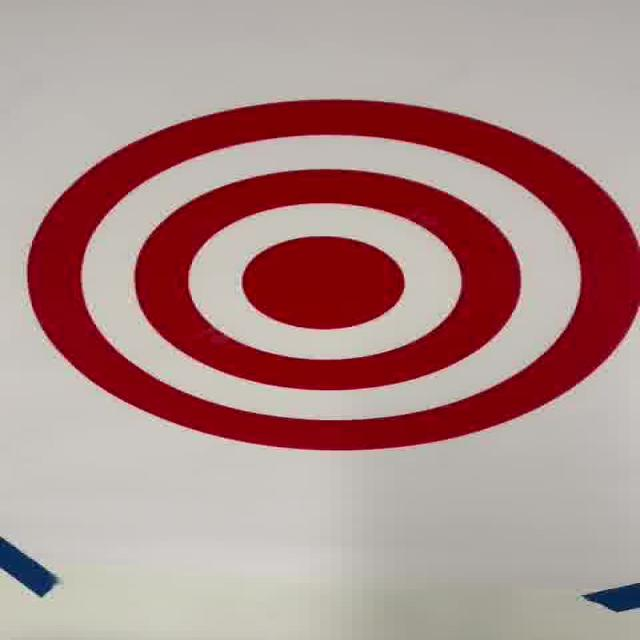target_red: (28, 98, 640, 450)
